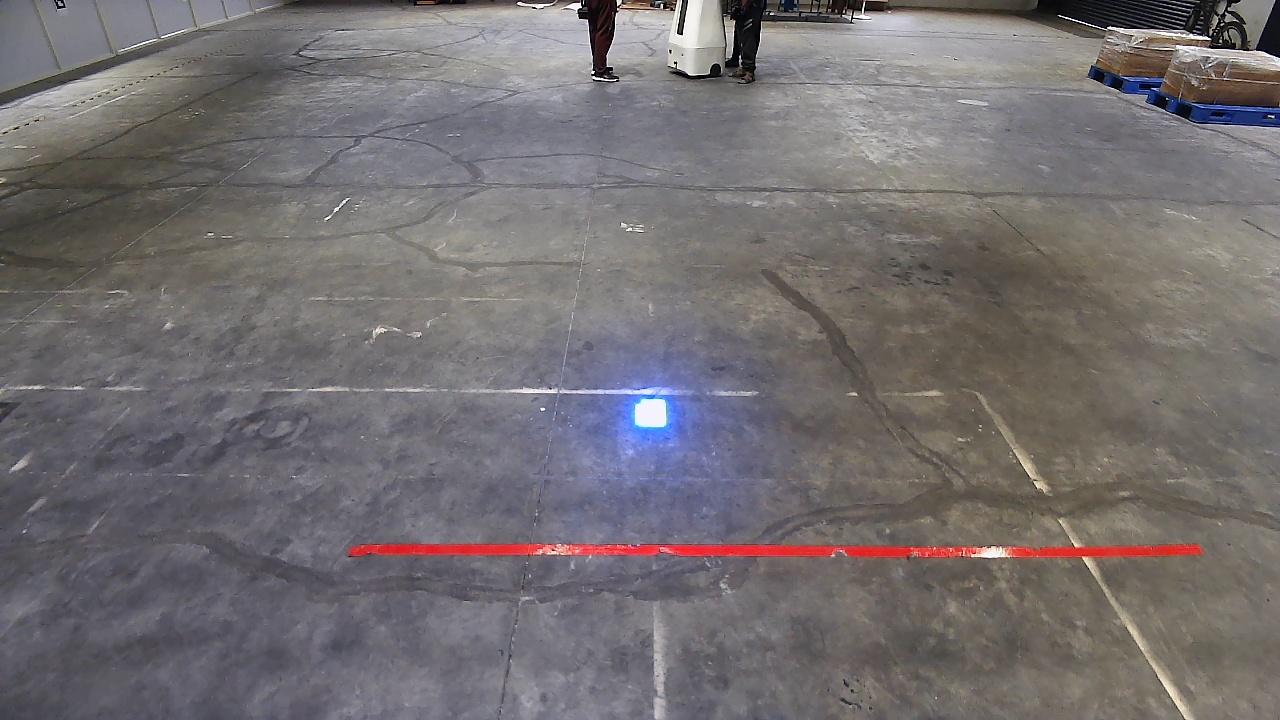red_line: (347, 540, 1204, 555)
